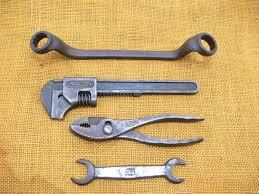wrench: (38, 75, 198, 120), (28, 28, 218, 60), (68, 155, 187, 186)
